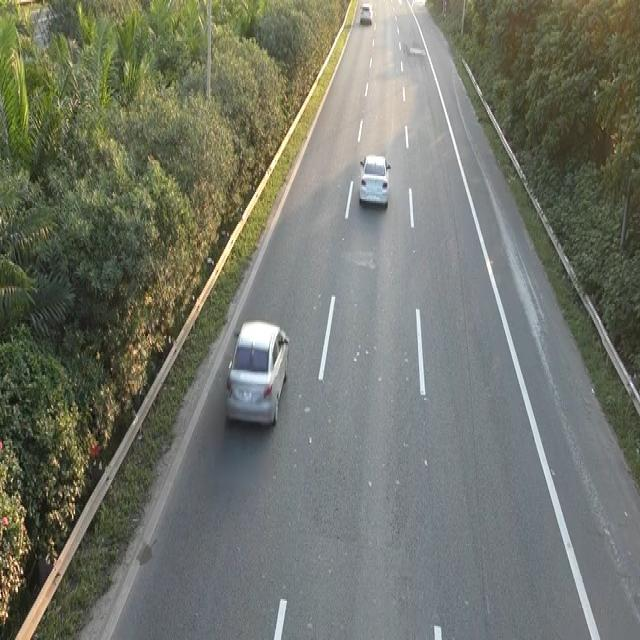bus: (223, 314, 291, 428), (357, 149, 392, 208)
